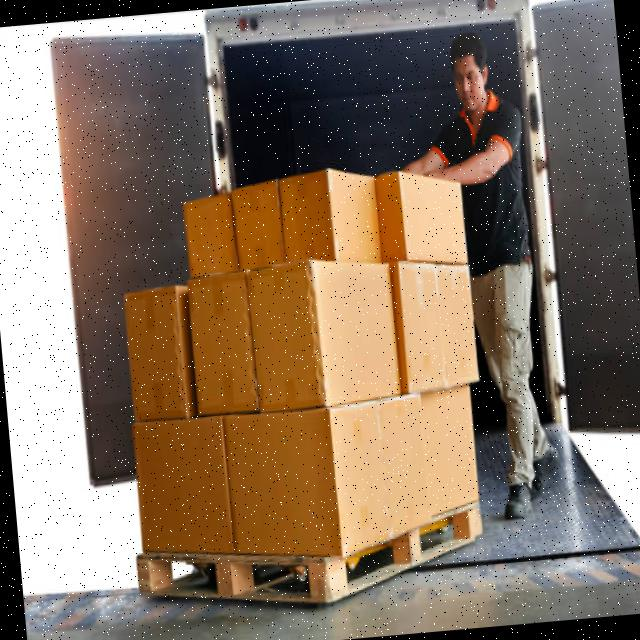Wooden-Pallets: (138, 506, 483, 610)
